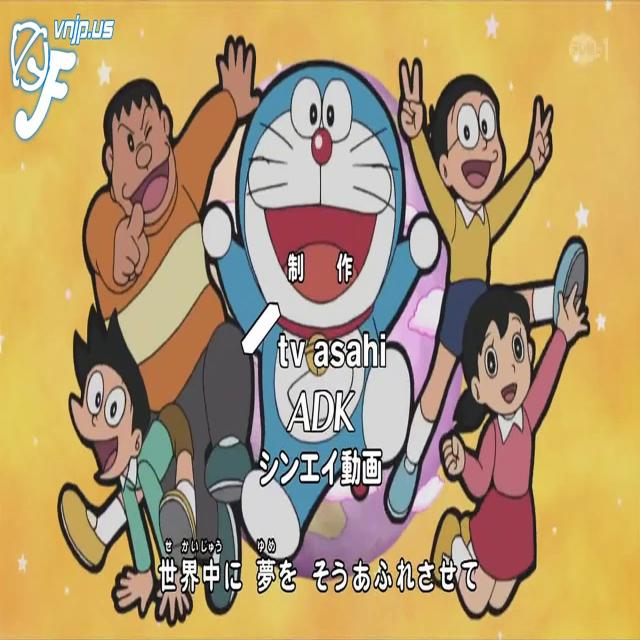doraemon: (226, 48, 421, 370)
jaian: (98, 68, 198, 257)
nobita: (418, 49, 535, 281)
shizuka: (452, 267, 565, 468)
suneo: (63, 291, 171, 534)
